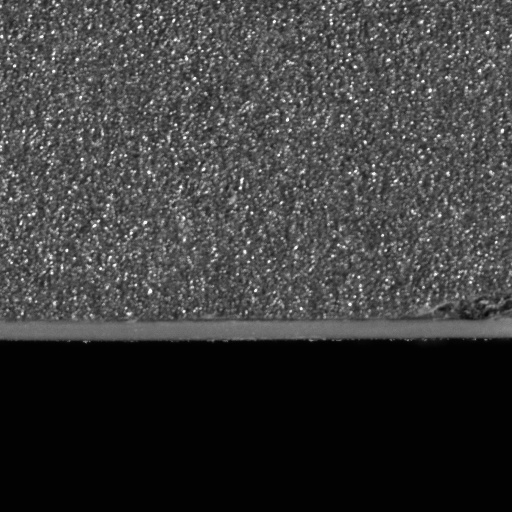bengque: (419, 292, 511, 323)
